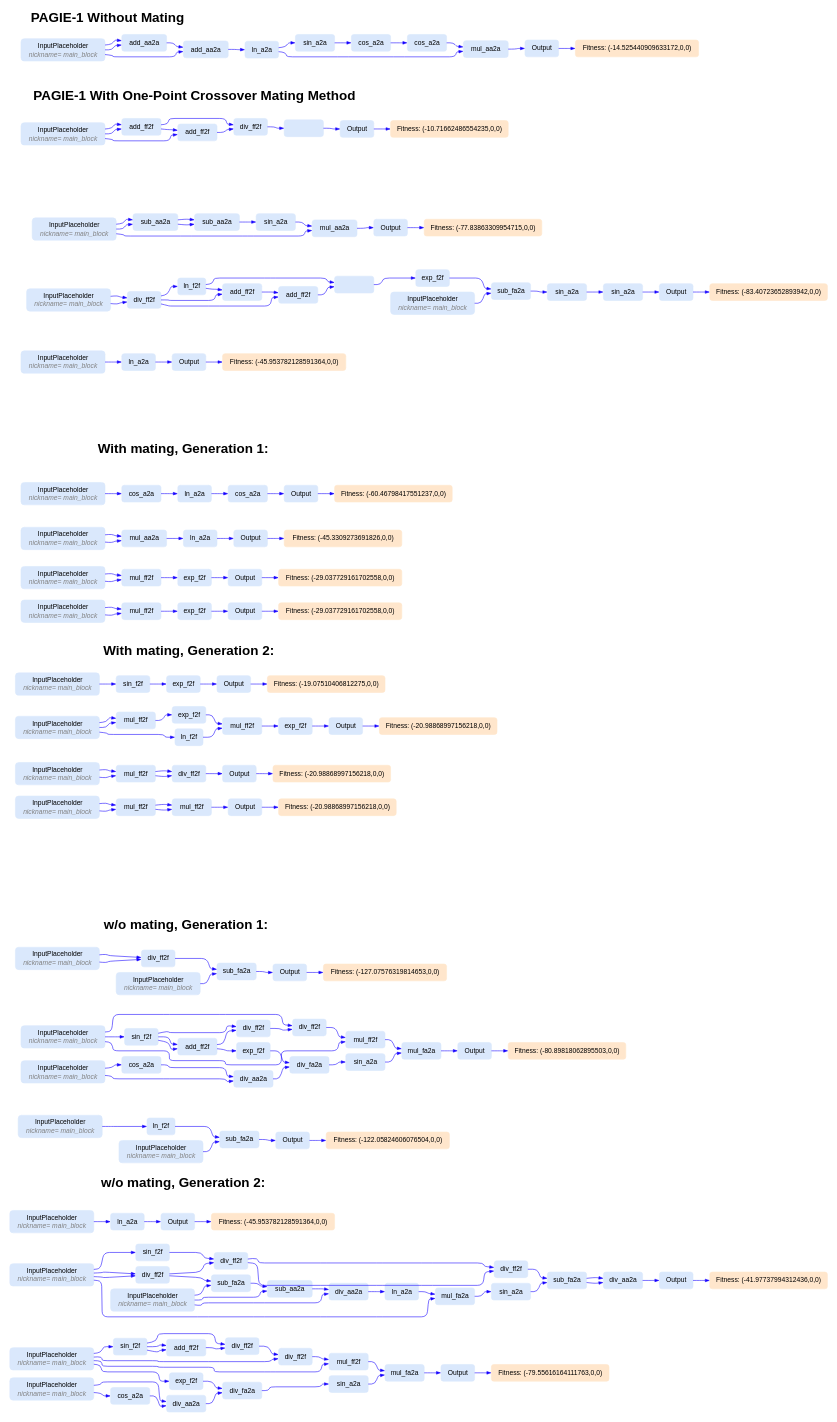
Some shapes in this 837 by 1422 pixel diagram are drawn without their labels. The centre of each missing label's shape, as x and y in pixels:
"exp_a2a" belongs at (x=303, y=128).
"sub_ff2f" belongs at (x=354, y=284).
